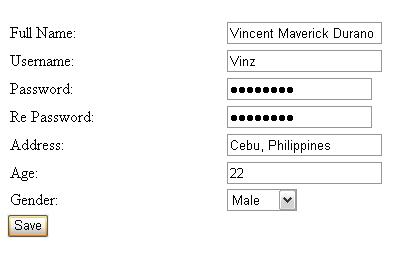button: (5, 212, 52, 238)
dropdown: (223, 188, 298, 213)
textbox: (223, 133, 384, 158), (224, 161, 387, 185), (223, 105, 374, 129)
